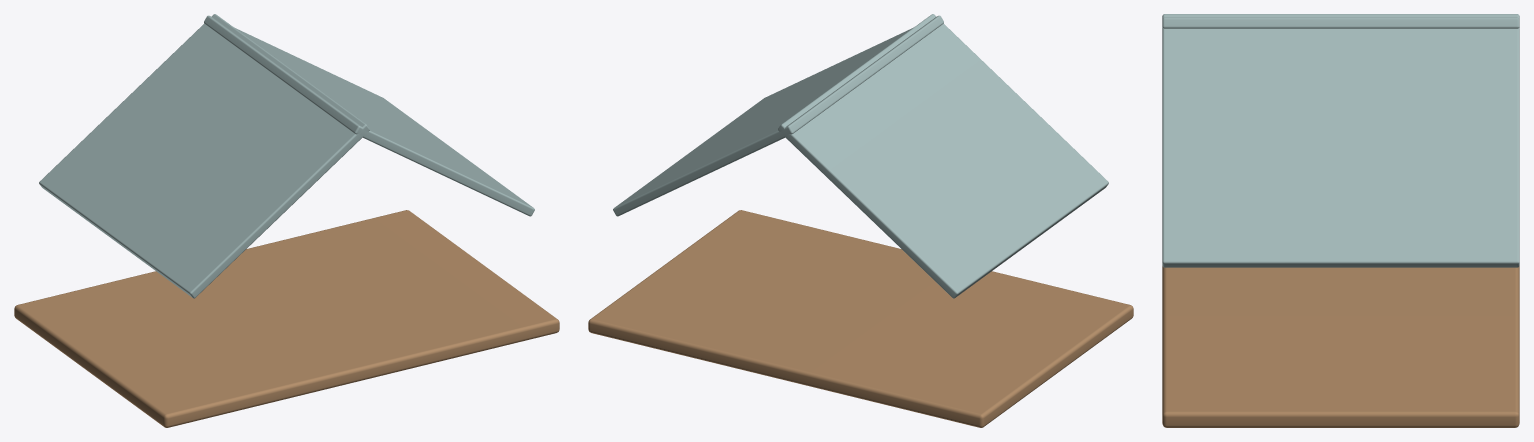
File: atelier-play-tent.glb
3 views of the same model, side by side, from view 1: azimuth 30°, elevation 25°; view 2: azimuth 150°, elevation 25°; view 3: azimuth 270°, elevation 25° (orthographic). The views are drawn at different scales.
Parts seen in each view (by area): view 1: legs.186, fabric.092; view 2: legs.186, fabric.092; view 3: fabric.092, legs.186.
Boxes of the visible parts, <box> form: legs.186: <box>14,210,559,427</box>; fabric.092: <box>39,14,534,298</box>; legs.186: <box>588,210,1133,427</box>; fabric.092: <box>613,14,1108,298</box>; fabric.092: <box>1162,14,1519,267</box>; legs.186: <box>1162,266,1519,427</box>.
Bounding box in the file's own units: 1.2 × 0.7418 × 0.8.
